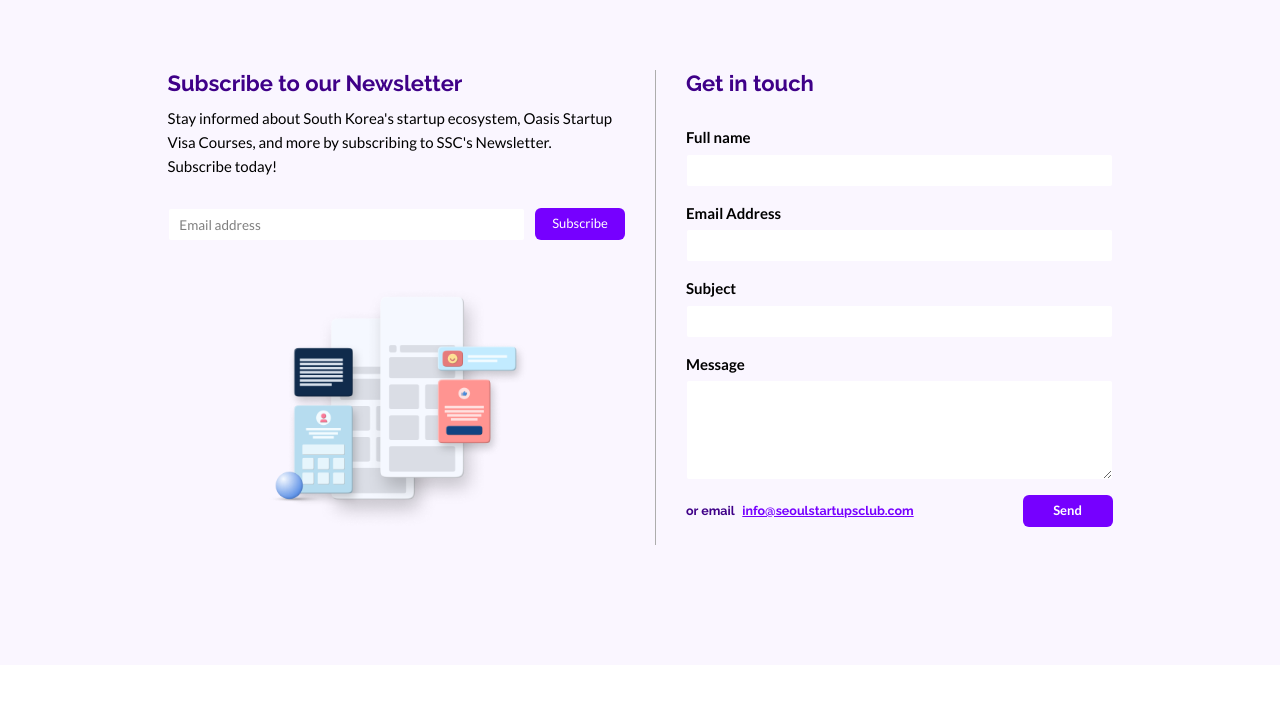
shows an error if subscribe form is submitted without email input
Click the button "Subscribe".
click(580, 224)  # box [535,208,625,240]
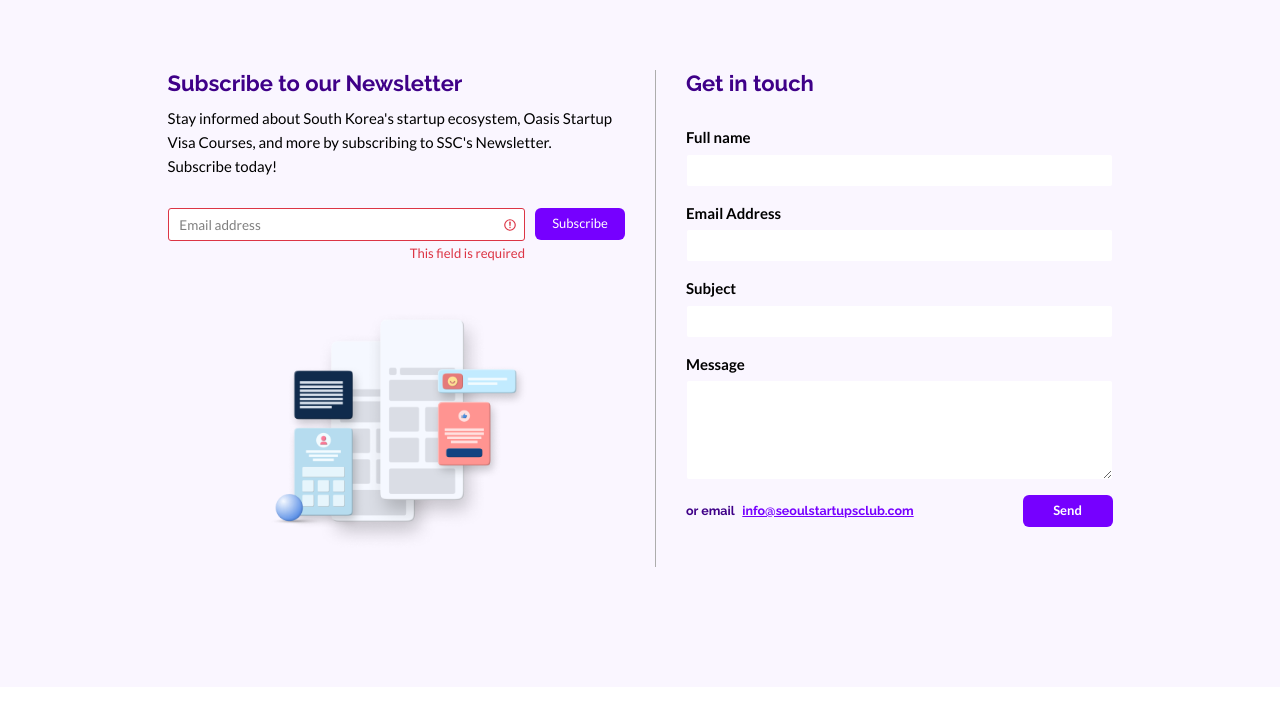
Expected: the text "This field is required" is shown, [410,245,525,261]
